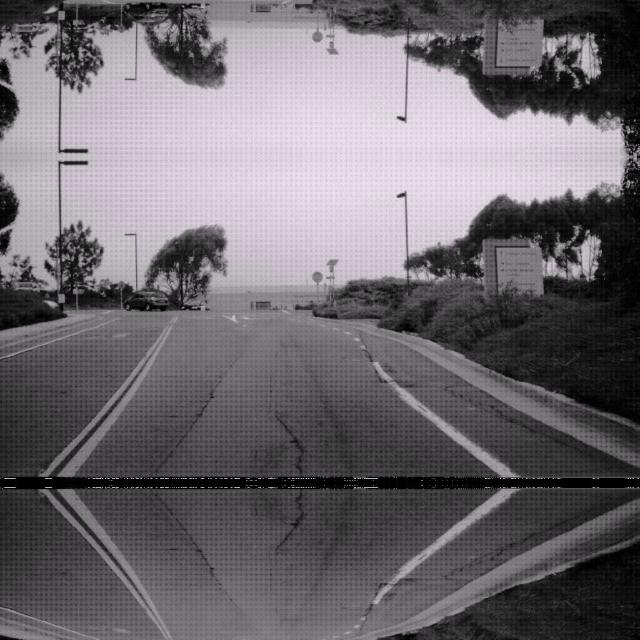stop: (312, 270, 322, 282), (312, 30, 322, 42)
